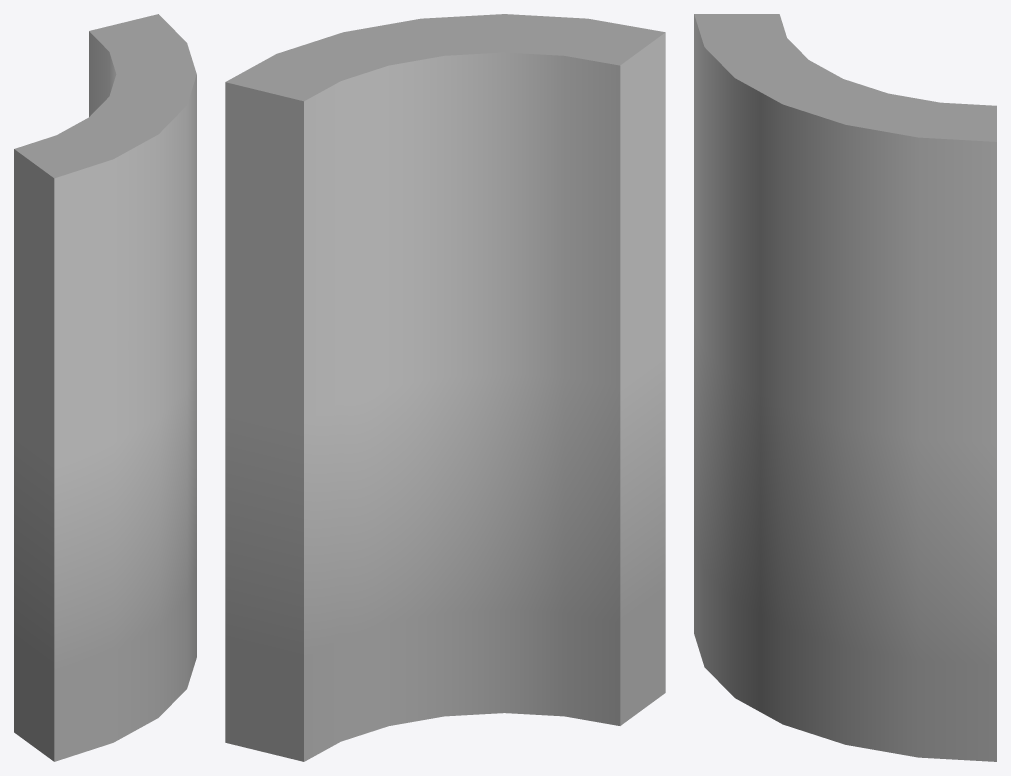
The model's file is wall_corner.fbx.
3 views of the same model, side by side, from view 1: azimuth 30°, elevation 25°; view 2: azimuth 150°, elevation 25°; view 3: azimuth 270°, elevation 25° (orthographic). The views are drawn at different scales.
Visible parts, largest first — view 1: wall_corner; view 2: wall_corner; view 3: wall_corner.
Boxes of the visible parts, x1,y1,x2,y2 form: wall_corner: (14, 14, 196, 761); wall_corner: (225, 14, 665, 761); wall_corner: (694, 14, 996, 761).
Size of the model in its own units: 0.8848 by 2 by 0.8848.
